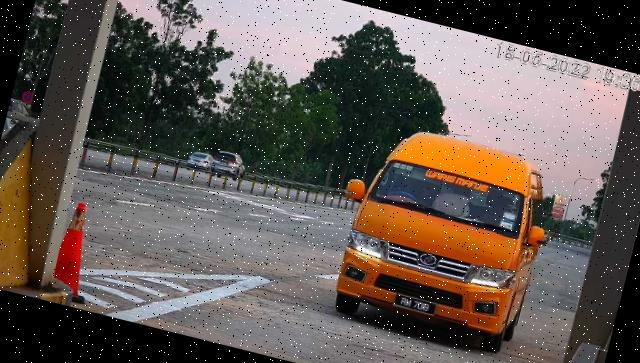License_Plate: (399, 293, 436, 318)
van: (329, 119, 561, 358)
